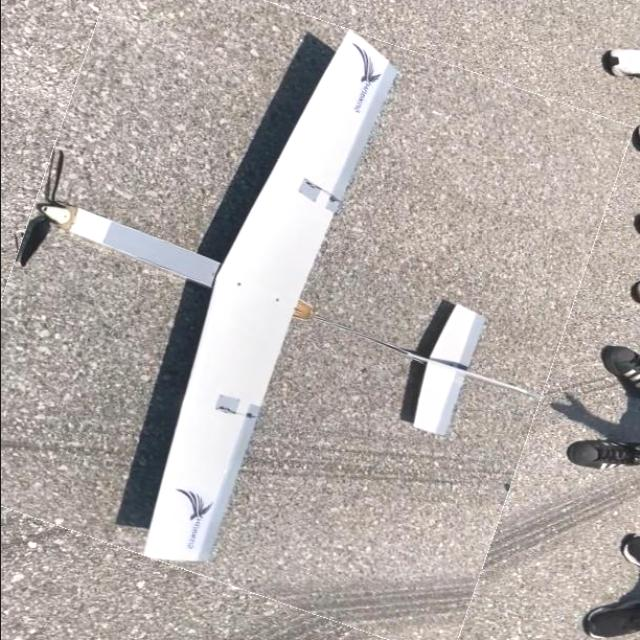plane: (0, 0, 634, 640)
